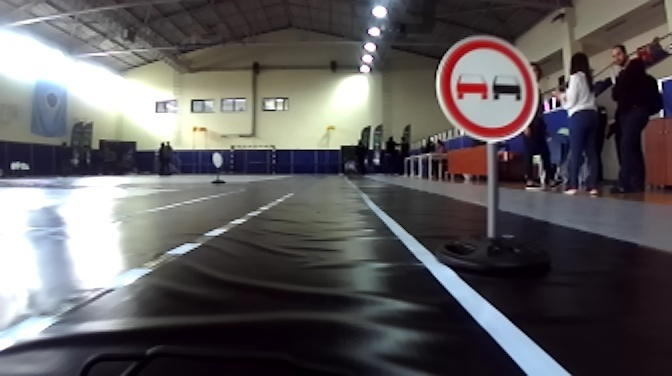sollama_yasak: (436, 38, 535, 138)
